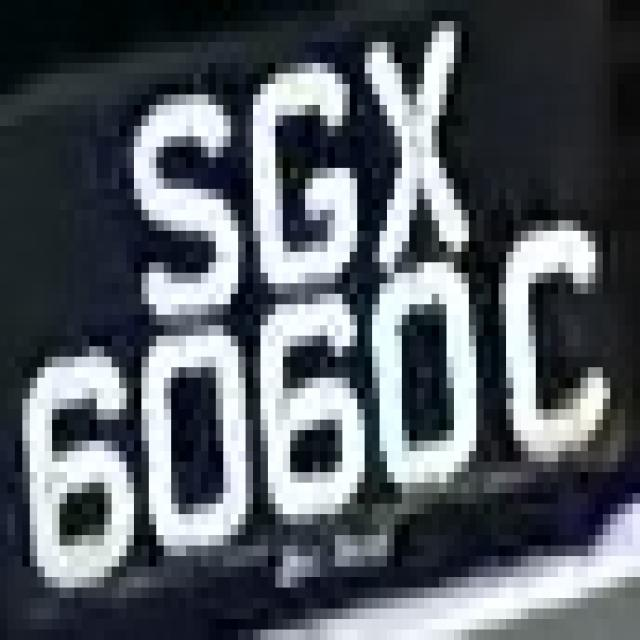0: (127, 262, 246, 577), (357, 262, 484, 525)
6: (238, 241, 380, 546), (15, 314, 149, 608)
C: (491, 210, 610, 482)
G: (246, 42, 372, 294)
S: (119, 63, 253, 325)
X: (335, 11, 491, 262)
